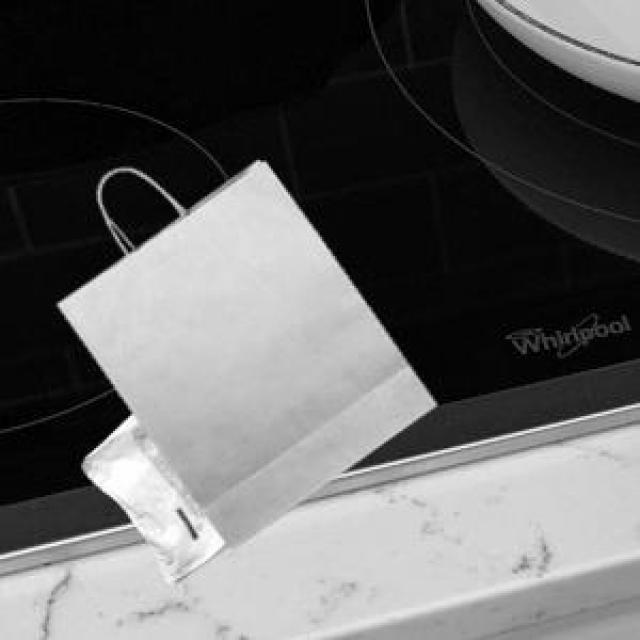paper: (53, 158, 431, 544)
